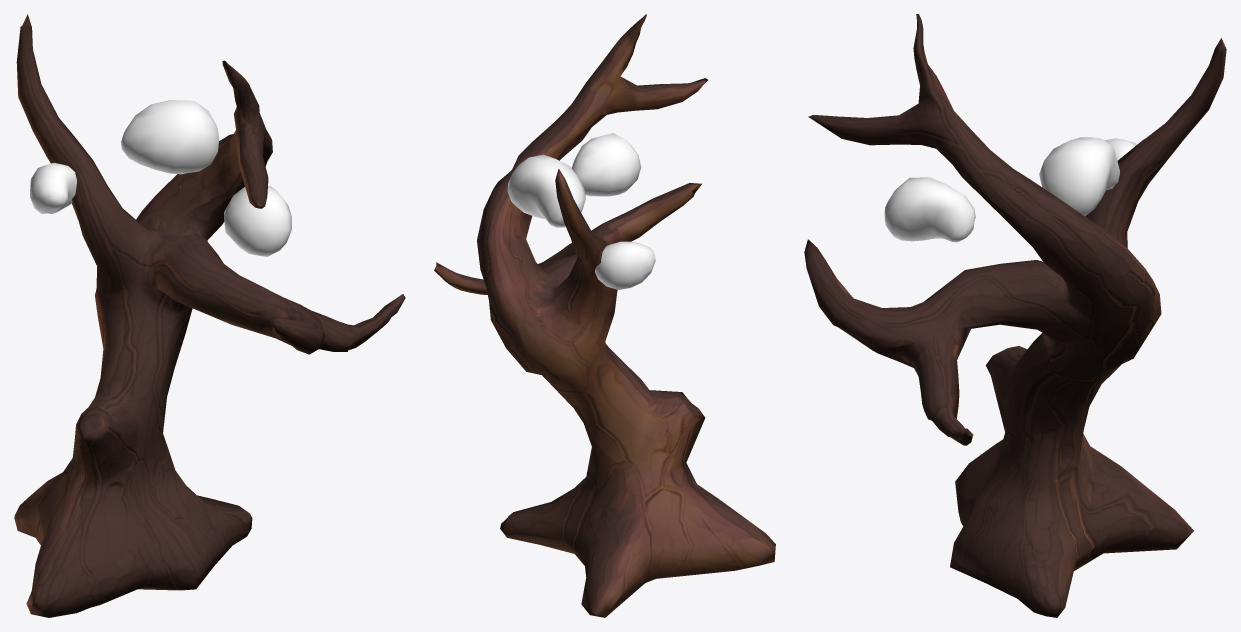
File: tree6.fbx
The picture shows the model from 3 angles, left to right: view 1: azimuth 30°, elevation 25°; view 2: azimuth 150°, elevation 25°; view 3: azimuth 270°, elevation 25°; orthographic projection. The views are drawn at different scales.
Parts seen in each view (by area): view 1: polySurface49; view 2: polySurface49; view 3: polySurface49.
Part boxes in pixels (left/top/right/bottom): polySurface49: left=14, top=14, right=405, bottom=617; polySurface49: left=434, top=14, right=775, bottom=617; polySurface49: left=804, top=14, right=1226, bottom=617.
Size of the model in its own units: 1130 by 1595 by 1071.
